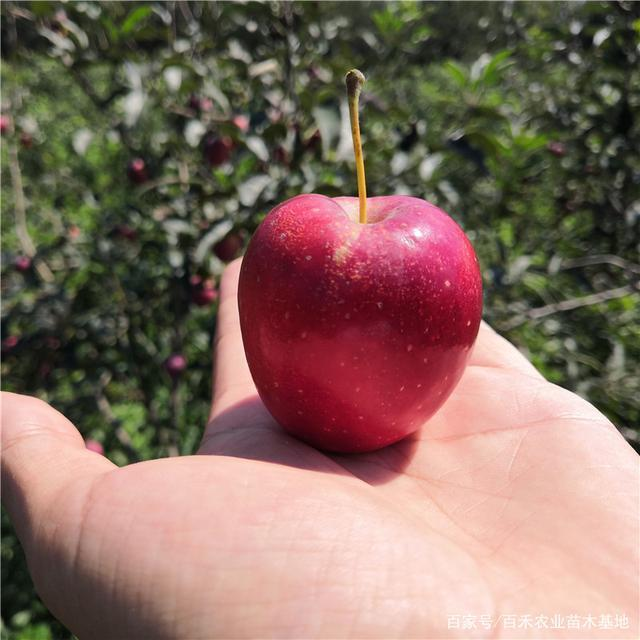apple: (234, 195, 483, 458)
